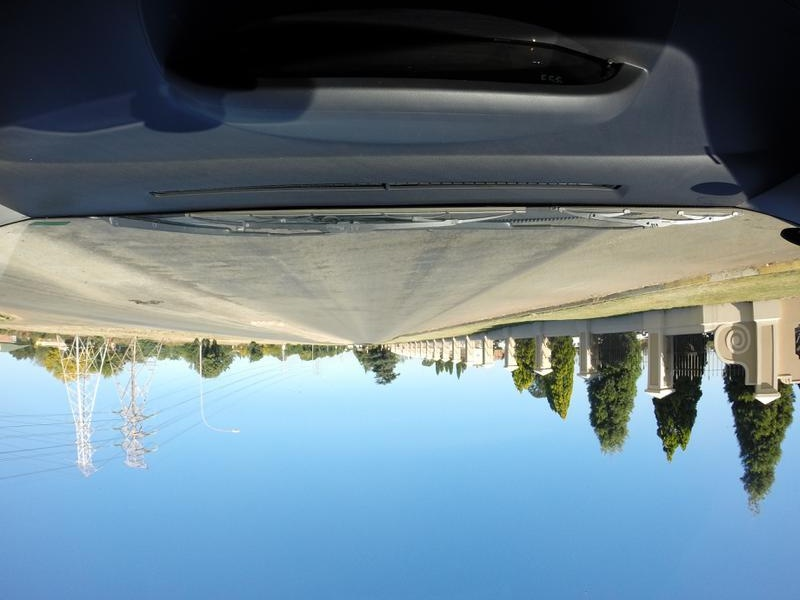pothole: (125, 297, 161, 304)
